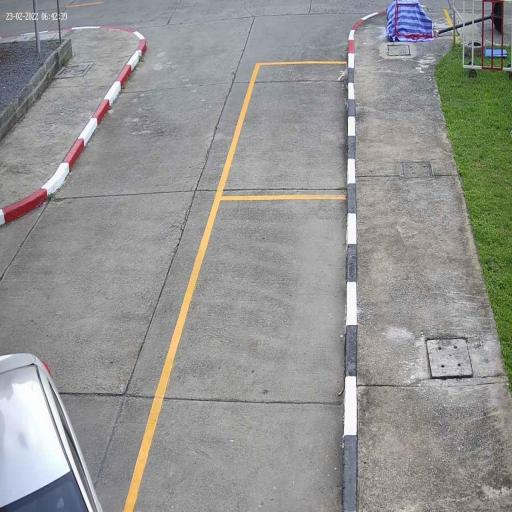car: (1, 352, 102, 512)
